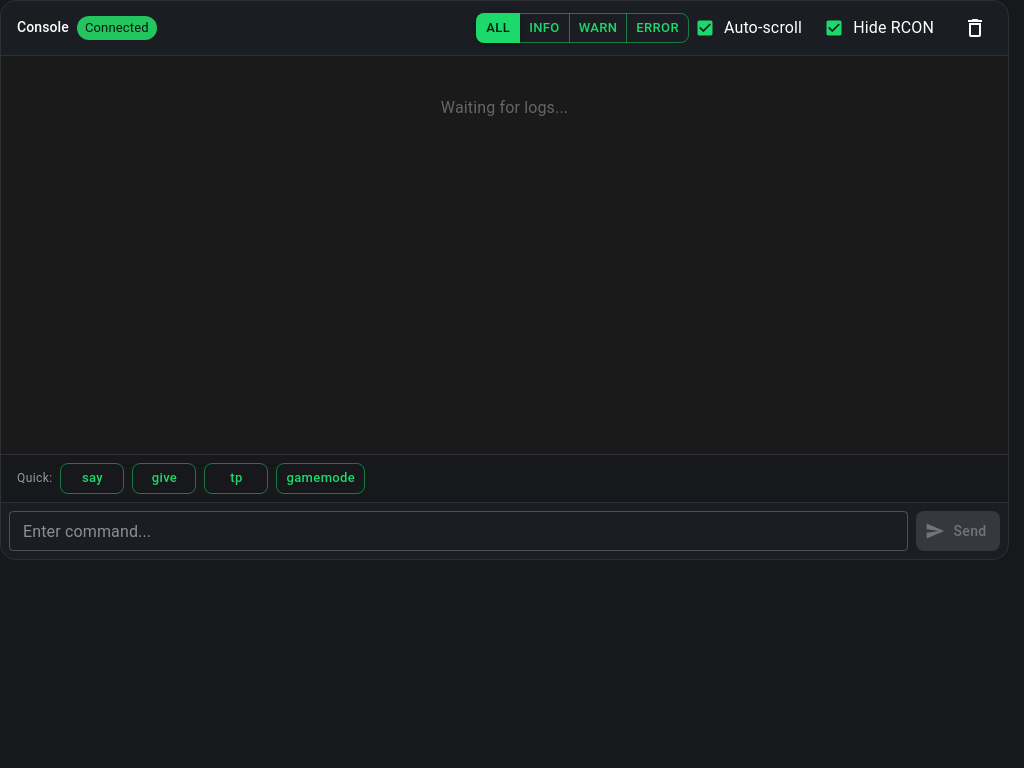
ServerConsole › Command Execution › should disable send button while command is executing
This screenshot has width=1024, height=768.
Type "say Hello" into the field with placeholder "Enter command..." at (458, 531), box [9,511,908,551]
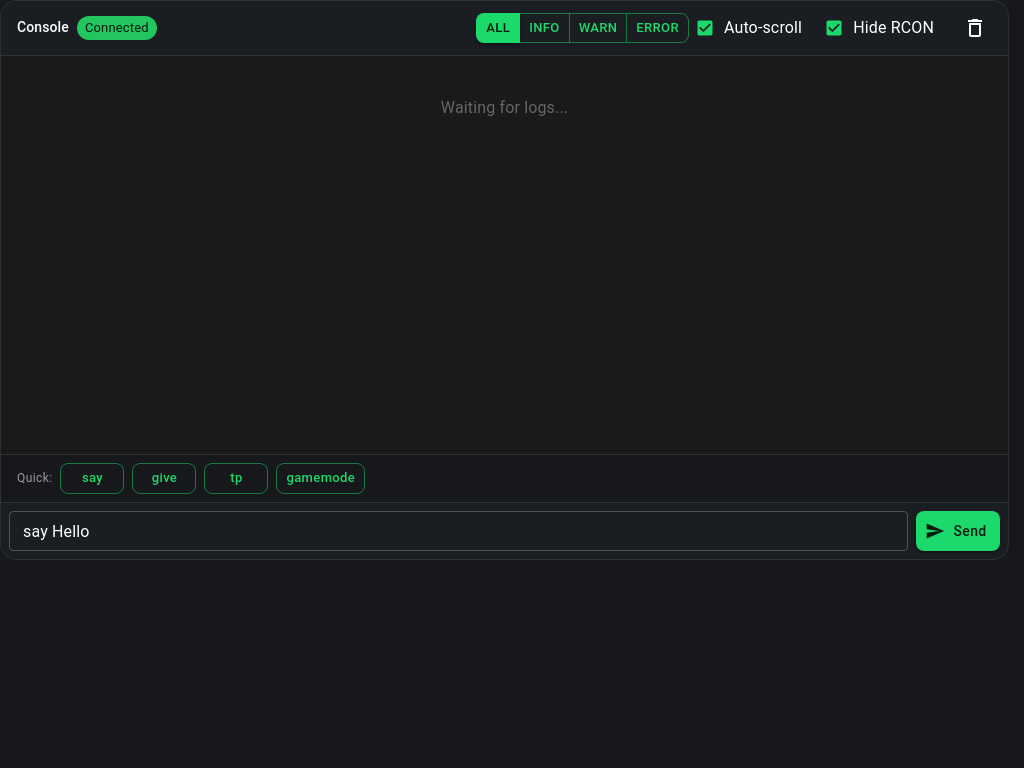
Click the button "Send" at (958, 531), box [916,511,1000,551]
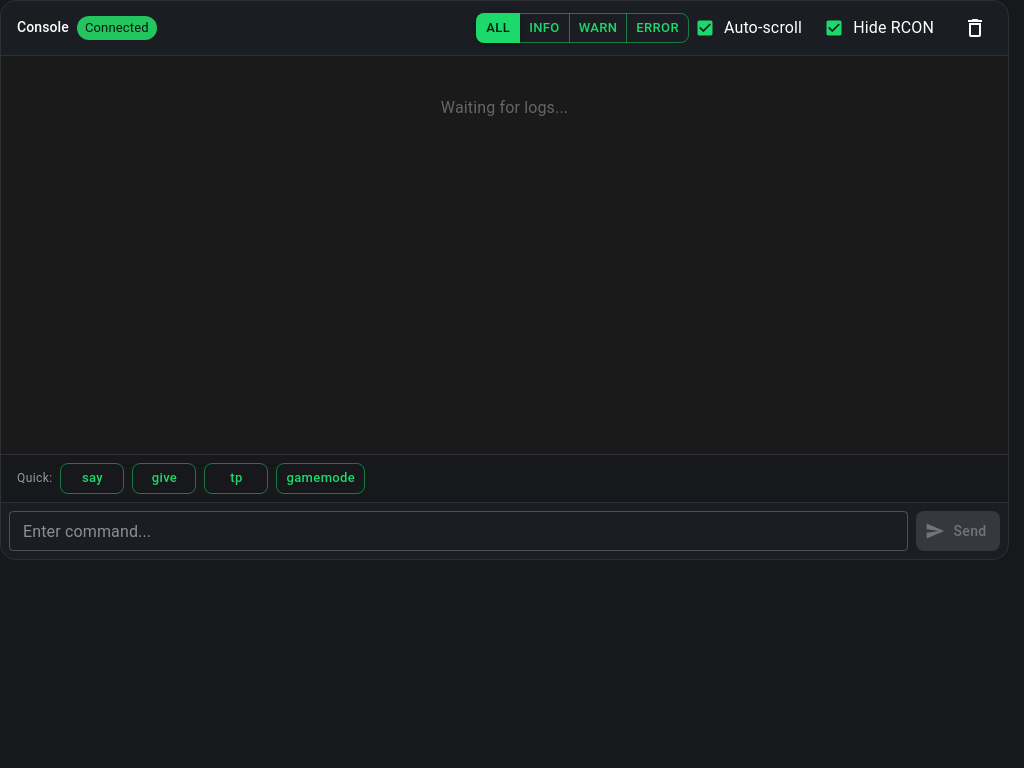
Now the button "Send" is disabled, box [916,511,1000,551]
